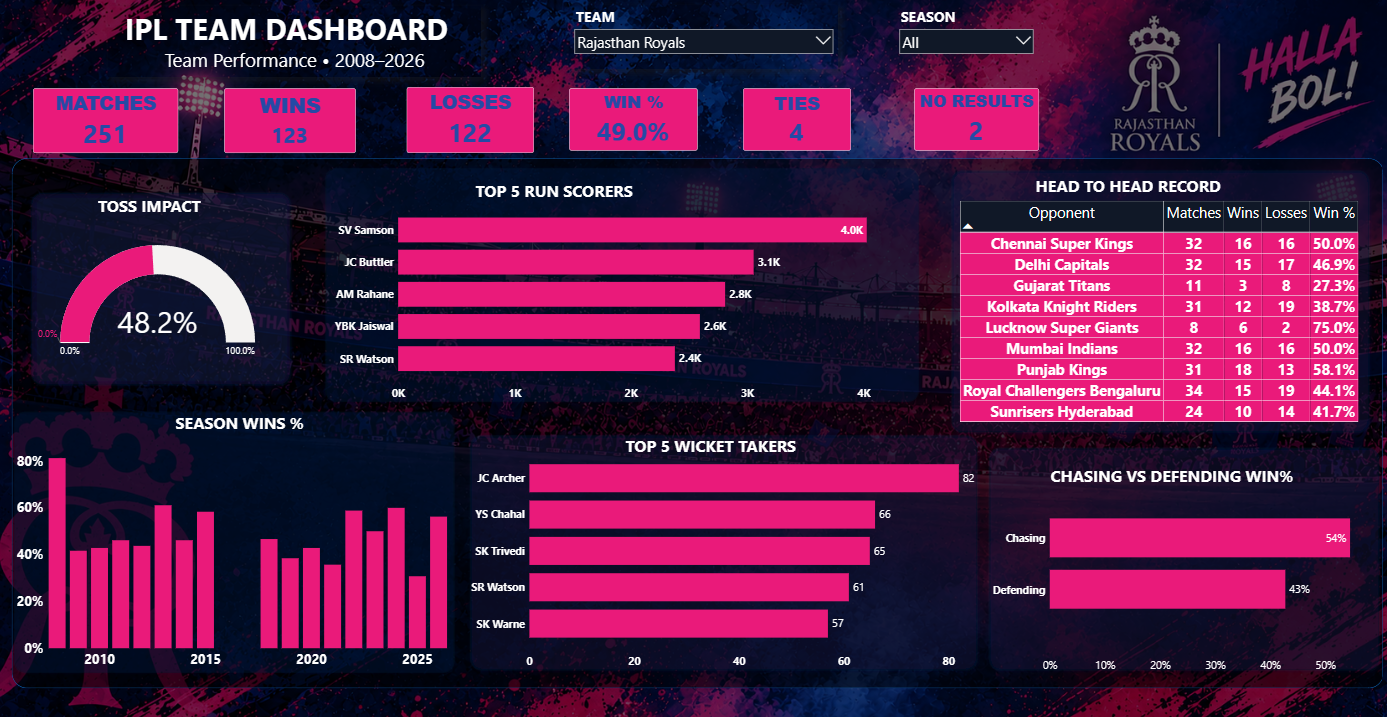

Layout of this report page (visuals, bound fields, positions):
{"tool":"powerbi","page":{"name":"Page 1","canvas":[2800,1450],"ordinal":0},"visuals":[{"type":"image","box":[0,2.3,2800,1448.5],"z":0},{"type":"shape","box":[0,2.3,2800,1448.5],"z":1000},{"type":"shape","box":[27.2,322.3,2744.3,1060],"z":2000},{"type":"shape","box":[56.7,383.6,535.7,401.8],"z":2500},{"type":"shape","box":[649.2,338.2,1196.2,476.7],"z":2750},{"type":"shape","box":[935.6,868.6,1032.7,487.5],"z":2875},{"type":"shape","box":[27.2,824,889.8,531.2],"z":2937},{"type":"shape","box":[1897.6,338.2,853.5,542.5],"z":2968},{"type":"shape","box":[1972.5,892.1,799,463.1],"z":2984},{"type":"slicer","fields":{"Values":["Dim_Team.Team_Name"]},"box":[1143.6,13.9,538.3,129.4],"z":3000},{"type":"slicer","fields":{"Values":["Dim_Date.Year"]},"box":[1792.7,13.9,288.8,129.4],"z":4000},{"type":"textbox","box":[219.5,18.5,746.2,143.2],"z":5000},{"type":"cardVisual","title":"MATCHES","fields":{"Data":["Dim_Date.Matches Played"]},"box":[70.4,181.6,290.5,129.4],"z":6000},{"type":"cardVisual","title":"WINS","fields":{"Data":["Fact_Match.Wins"]},"box":[452.8,182.5,263.4,129.4],"z":8000},{"type":"cardVisual","title":"LOSSES","fields":{"Data":["Fact_Match.Losses"]},"box":[817.2,179.3,254.2,131.7],"z":9000},{"type":"cardVisual","title":"WIN %","fields":{"Data":["Fact_Match.Win %"]},"box":[1143.6,182.5,256.4,124.8],"z":10000},{"type":"cardVisual","title":"TIES","fields":{"Data":["Fact_Match.Ties"]},"box":[1489,181.6,215.6,124.8],"z":11000},{"type":"cardVisual","title":"NO RESULTS","fields":{"Data":["Fact_Match.No Results"]},"box":[1832,182.5,249.5,124.8],"z":12000},{"type":"clusteredBarChart","title":"Top 5 Run Scorers","fields":{"Y":["Dim_Date.Total Runs"],"Category":["Fact_Ball.batter"]},"box":[667.3,401.8,1125.9,415.4],"z":13000},{"type":"clusteredBarChart","title":"Top 5 Wicket Takers","fields":{"Category":["Fact_Ball.bowler"],"Y":["Fact_Ball.Total Wickets"]},"box":[940.3,891.7,1032.7,462],"z":14000},{"type":"tableEx","title":"HEAD-TO-HEAD RECORD","fields":{"Values":["H2H Opponents.Opponent","Dim_Date.H2H Matches","Dim_Date.H2H Wins","Dim_Date.H2H Losses","Dim_Date.H2H Win %"]},"box":[1918.1,401.8,810.4,469.9],"z":15000},{"type":"clusteredBarChart","title":"Chasing vs Defending","fields":{"Category":["Match Situation.Situation"],"Y":["Match Situation.Situation Win %"]},"box":[1988.4,937.5,783.1,419.9],"z":16000},{"type":"clusteredColumnChart","title":"Season Wins","fields":{"Y":["Dim_Date.Season Win %"],"Category":["Dim_Date.Year"]},"box":[32.3,868.6,884.8,485.1],"z":17000},{"type":"gauge","title":"Toss Impact","fields":{"Y":["Dim_Date.Toss Win Match %"]},"box":[70.4,474.4,449.4,272.4],"z":18000},{"type":"textbox","box":[196,390,301.9,72.6],"z":19000},{"type":"textbox","box":[950,360,397.2,81.7],"z":20000},{"type":"textbox","box":[2070,350,492.6,145.3],"z":21000},{"type":"textbox","box":[350,825,300,300],"z":22000},{"type":"textbox","box":[1250,870,399.7,83.2],"z":23000},{"type":"textbox","box":[2100,930,559.1,122.4],"z":24000}]}

Visuals, with their boxes in screenshot pixels (x1, y1, x2, y2), scaled from the page's 2800x1450 canvas onto the 1387x717 screenshot:
image: bbox=[0, 1, 1386, 716]
shape: bbox=[0, 1, 1386, 716]
shape: bbox=[13, 159, 1373, 684]
shape: bbox=[28, 190, 293, 388]
shape: bbox=[322, 167, 914, 403]
shape: bbox=[463, 430, 975, 671]
shape: bbox=[13, 407, 454, 670]
shape: bbox=[940, 167, 1363, 435]
shape: bbox=[977, 441, 1373, 670]
slicer - Dim_Team.Team_Name: bbox=[566, 7, 833, 71]
slicer - Dim_Date.Year: bbox=[888, 7, 1031, 71]
textbox: bbox=[109, 9, 478, 80]
"MATCHES" cardVisual: bbox=[35, 90, 179, 154]
"WINS" cardVisual: bbox=[224, 90, 355, 154]
"LOSSES" cardVisual: bbox=[405, 89, 531, 154]
"WIN %" cardVisual: bbox=[566, 90, 694, 152]
"TIES" cardVisual: bbox=[738, 90, 844, 152]
"NO RESULTS" cardVisual: bbox=[907, 90, 1031, 152]
"Top 5 Run Scorers" clusteredBarChart: bbox=[331, 199, 888, 404]
"Top 5 Wicket Takers" clusteredBarChart: bbox=[466, 441, 977, 669]
"HEAD-TO-HEAD RECORD" tableEx: bbox=[950, 199, 1352, 431]
"Chasing vs Defending" clusteredBarChart: bbox=[985, 464, 1373, 671]
"Season Wins" clusteredColumnChart: bbox=[16, 430, 454, 669]
"Toss Impact" gauge: bbox=[35, 235, 257, 369]
textbox: bbox=[97, 193, 247, 229]
textbox: bbox=[471, 178, 667, 218]
textbox: bbox=[1025, 173, 1269, 245]
textbox: bbox=[173, 408, 322, 556]
textbox: bbox=[619, 430, 817, 471]
textbox: bbox=[1040, 460, 1317, 520]
